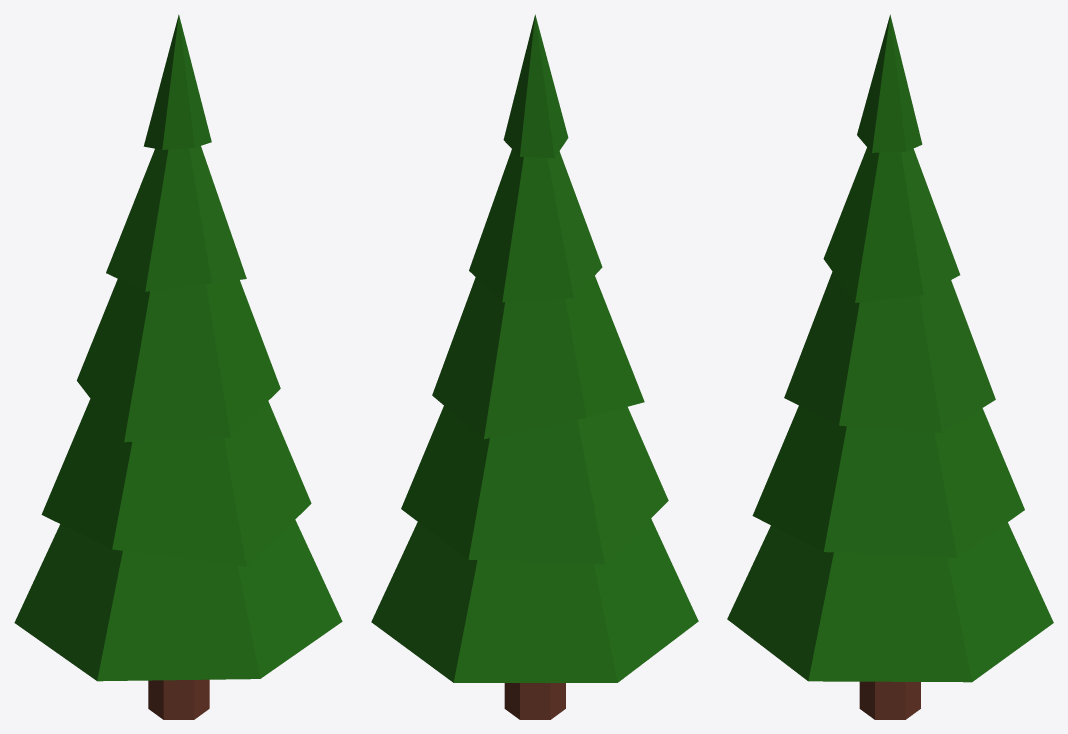
The model's file is PineL.glb.
The picture shows the model from 3 angles, left to right: view 1: azimuth 30°, elevation 25°; view 2: azimuth 150°, elevation 25°; view 3: azimuth 270°, elevation 25°; orthographic projection.
Parts seen in each view (by area): view 1: Cylinder.001, Cylinder; view 2: Cylinder.001, Cylinder; view 3: Cylinder.001, Cylinder.
Boxes of the visible parts, <box> form: Cylinder.001: <box>14,14,342,681</box>; Cylinder: <box>148,679,209,719</box>; Cylinder.001: <box>371,14,698,682</box>; Cylinder: <box>504,683,565,719</box>; Cylinder.001: <box>727,14,1053,682</box>; Cylinder: <box>859,681,920,719</box>.
Bounding box in the file's own units: 5.57 × 15 × 6.39.
